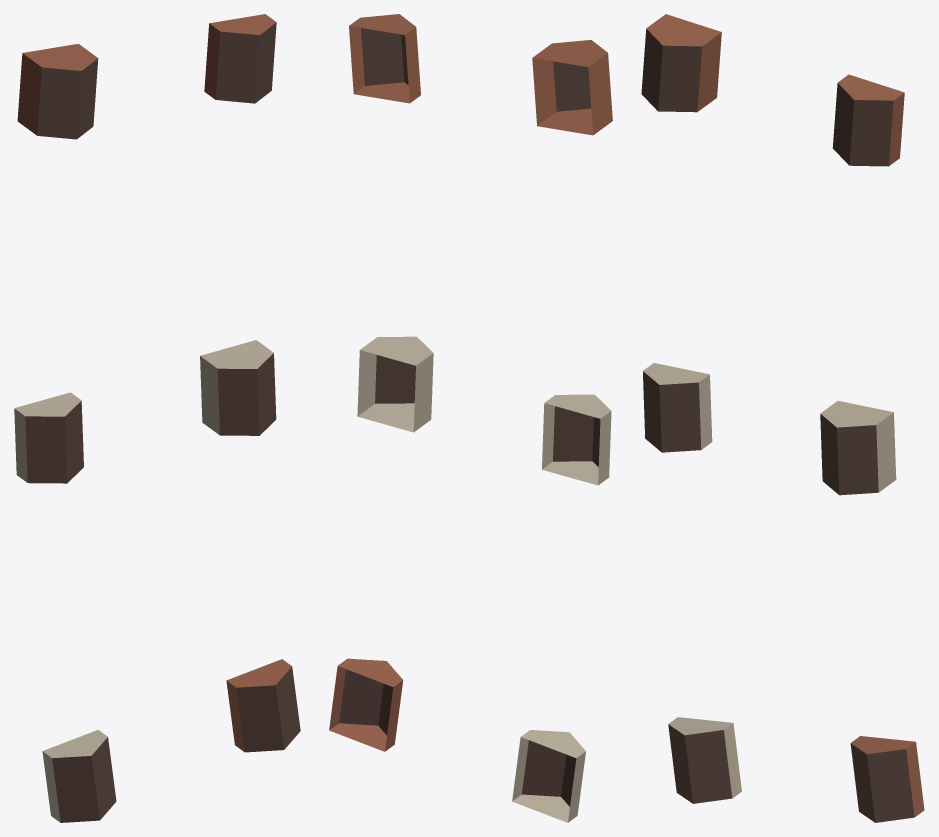
The model's file is island_bldg_01_05.obj.
3 views of the same model, side by side, from view 1: azimuth 30°, elevation 25°; view 2: azimuth 150°, elevation 25°; view 3: azimuth 330°, elevation 25° (orthographic).
Visible parts, largest first — view 1: island_bldg_01_05; view 2: island_bldg_01_05; view 3: island_bldg_01_05.
Boxes of the visible parts, x1=… form: island_bldg_01_05: x1=14, y1=14, x2=300, y2=822; island_bldg_01_05: x1=329, y1=14, x2=612, y2=822; island_bldg_01_05: x1=641, y1=14, x2=924, y2=822.
Bounding box in the file's own units: 68.09 × 182 × 13.57.
